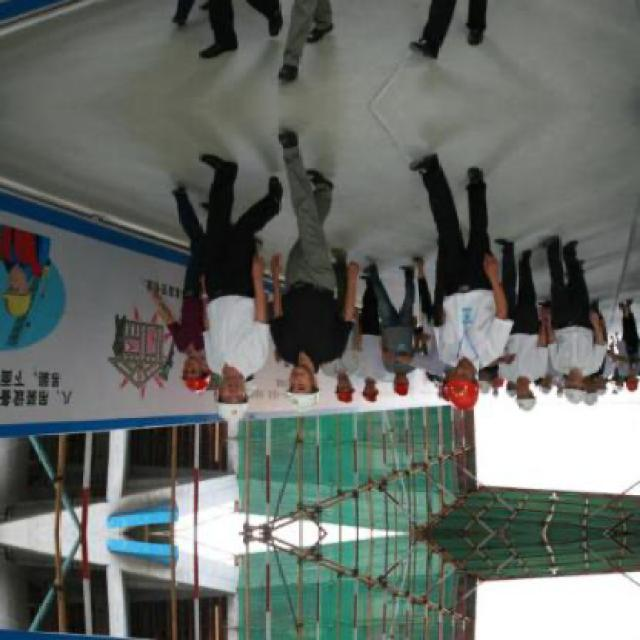con casco: (198, 363, 262, 437), (430, 356, 495, 412), (269, 357, 328, 414), (502, 371, 544, 408), (565, 378, 595, 406)
